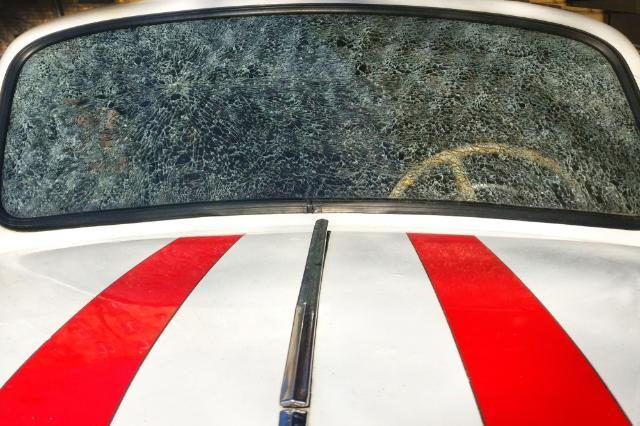glass shatter: (0, 12, 640, 219)
